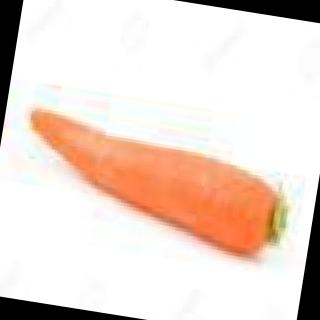Wortel: (2, 78, 313, 288)
